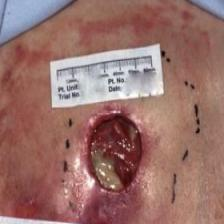pressure-wound: (78, 102, 147, 198)
